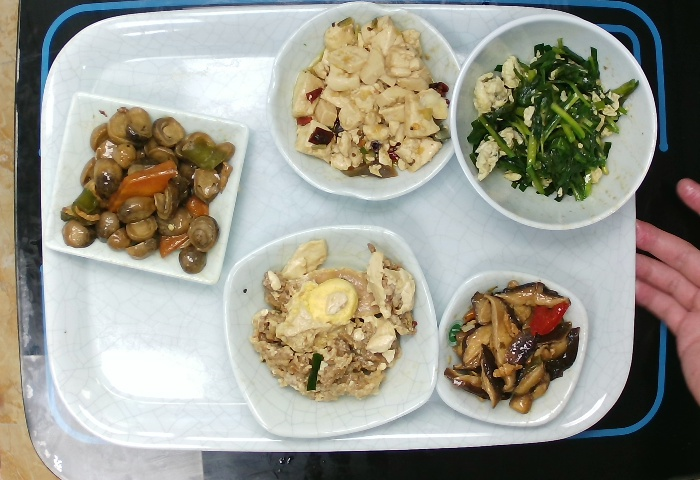JYsf-Ao_Yuan_Wan: (264, 1, 466, 204)
JYsf-Fan_Wan: (449, 9, 664, 238)
JYsf-Si_Fang_Die: (432, 262, 596, 430)
WCQzf-Da_Si_Fang_Die: (219, 220, 440, 444)
WCQzf-Ru_Ci_Si_Fang_Die: (39, 87, 254, 283)
